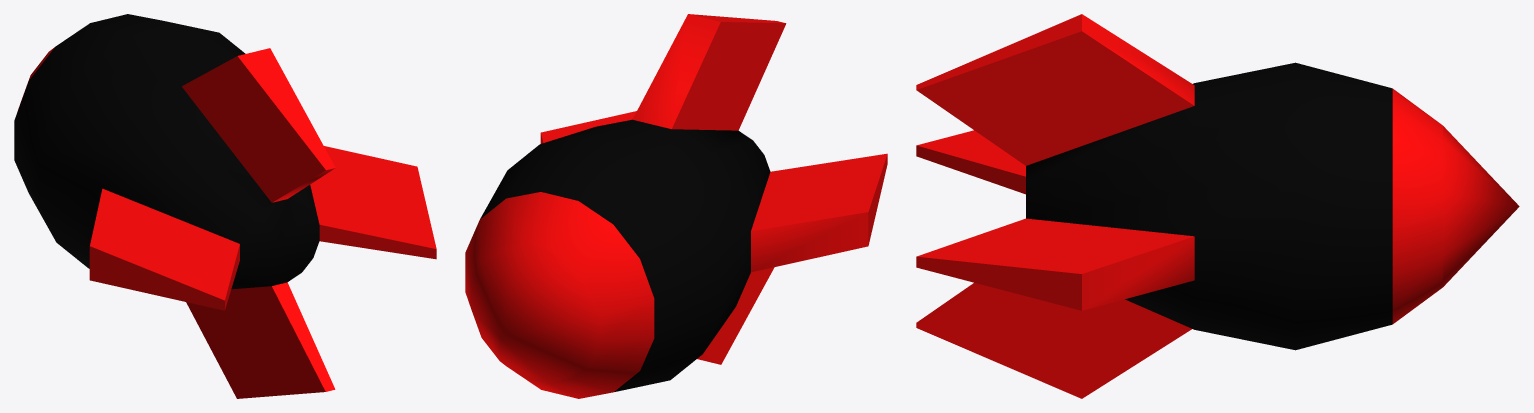
The model's file is rocket.FBX.
The picture shows the model from 3 angles, left to right: view 1: azimuth 30°, elevation 25°; view 2: azimuth 150°, elevation 25°; view 3: azimuth 270°, elevation 25°; orthographic projection. The views are drawn at different scales.
Visible parts, largest first — view 1: Cylinder028; view 2: Cylinder028; view 3: Cylinder028.
Part boxes in pixels (bbox=[...]): Cylinder028: bbox=[14, 14, 436, 398]; Cylinder028: bbox=[465, 14, 887, 398]; Cylinder028: bbox=[916, 14, 1519, 398].
Size of the model in its own units: 14.3 by 21.25 by 14.3.
